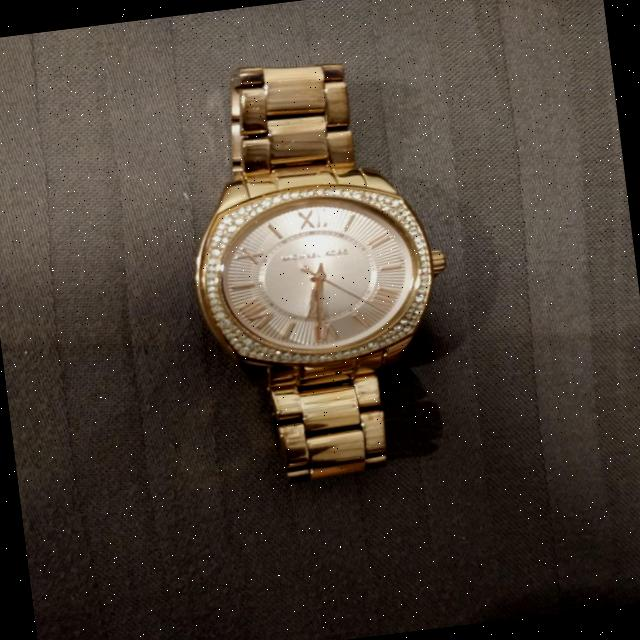Wrist watch: (168, 44, 476, 496)
